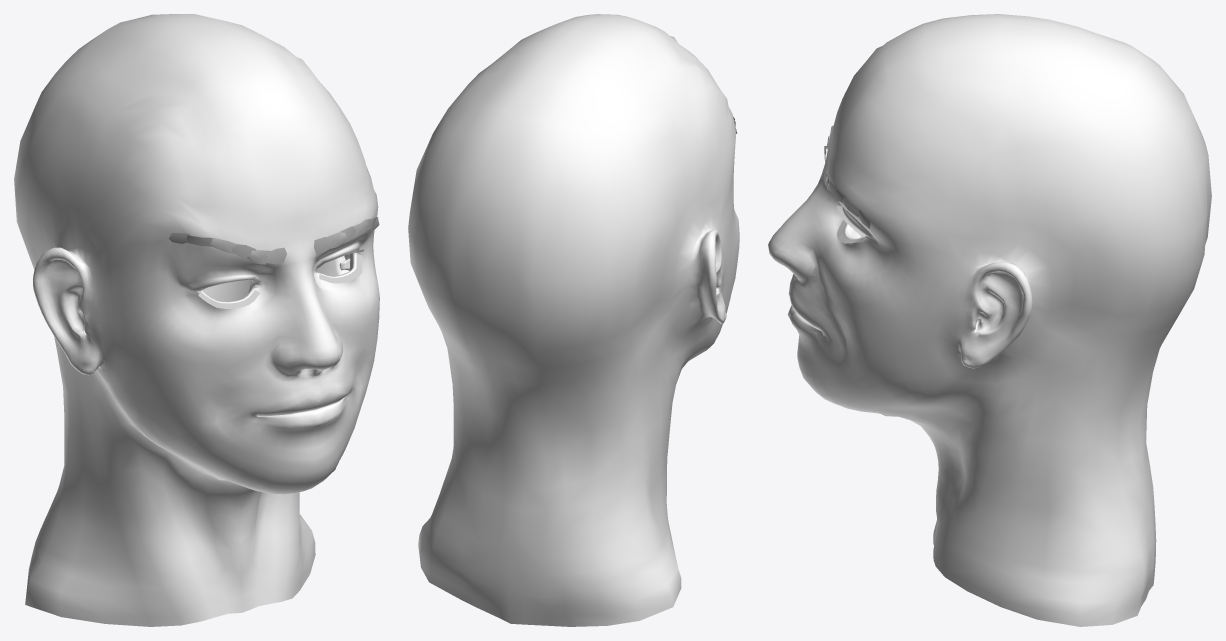
File: browOuterRight.obj
3 views of the same model, side by side, from view 1: azimuth 30°, elevation 25°; view 2: azimuth 150°, elevation 25°; view 3: azimuth 270°, elevation 25° (orthographic). The views are drawn at different scales.
Visible parts, largest first — view 1: FaceMesh_Plane.003; view 2: FaceMesh_Plane.003; view 3: FaceMesh_Plane.003.
Part boxes in pixels (x1,y1,x2,y2): FaceMesh_Plane.003: (14, 14, 379, 626); FaceMesh_Plane.003: (408, 14, 739, 626); FaceMesh_Plane.003: (768, 14, 1211, 626).
Bounding box in the file's own units: 1.54 × 2.71 × 1.94.
5 materials, 1 textured.
